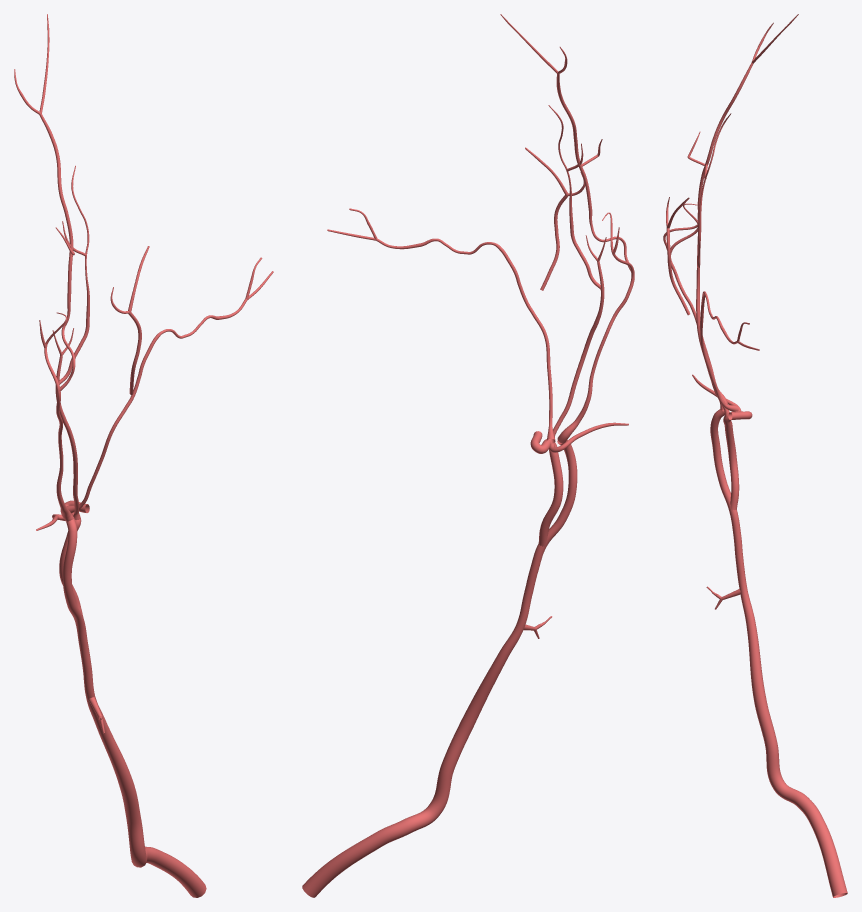
File: Angular_artery.r_BezierCurve.086.glb
The picture shows the model from 3 angles, left to right: view 1: azimuth 30°, elevation 25°; view 2: azimuth 150°, elevation 25°; view 3: azimuth 270°, elevation 25°; orthographic projection. The views are drawn at different scales.
Visible parts, largest first — view 1: Angular_artery.r_BezierCurve.086; view 2: Angular_artery.r_BezierCurve.086; view 3: Angular_artery.r_BezierCurve.086.
Part boxes in pixels (x1,y1,x2,y2): Angular_artery.r_BezierCurve.086: (14, 14, 273, 897); Angular_artery.r_BezierCurve.086: (302, 14, 634, 897); Angular_artery.r_BezierCurve.086: (663, 14, 847, 897).
Bounding box in the file's own units: 0.0347 × 0.1134 × 0.0234.
